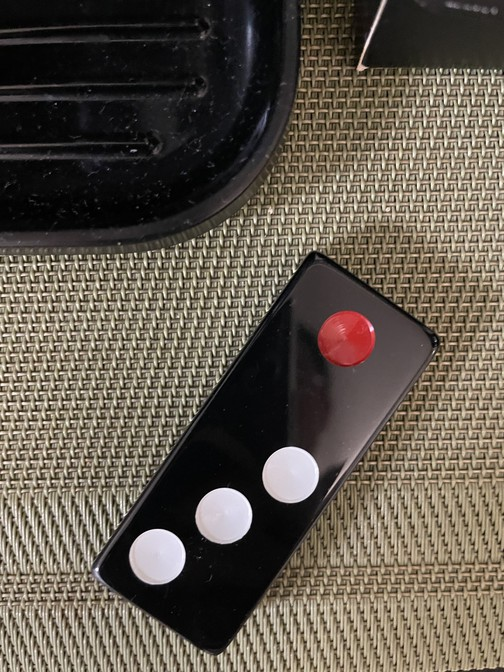goose: (91, 254, 439, 657)
